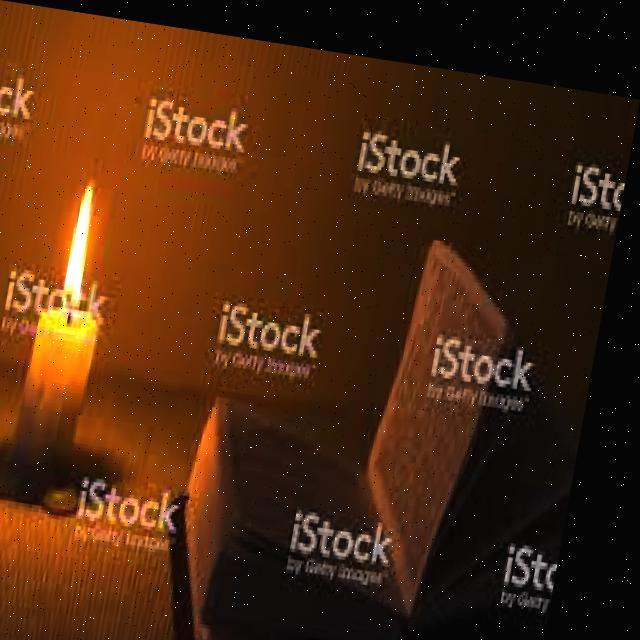Fire: (64, 170, 118, 308)
